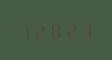eight: (48, 20, 62, 39)
seven: (18, 21, 32, 40)
three: (78, 19, 92, 38)
two: (33, 20, 47, 40), (63, 19, 77, 39)
